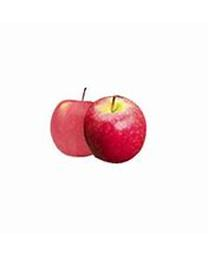apple: (84, 95, 146, 163), (50, 87, 98, 157)
